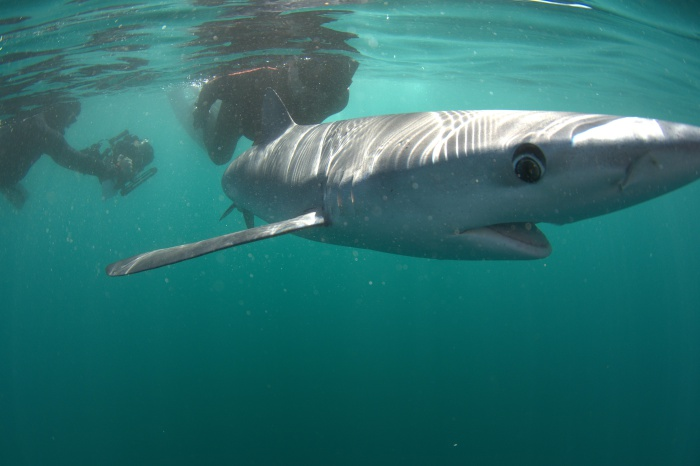Azul: (112, 86, 700, 285)
